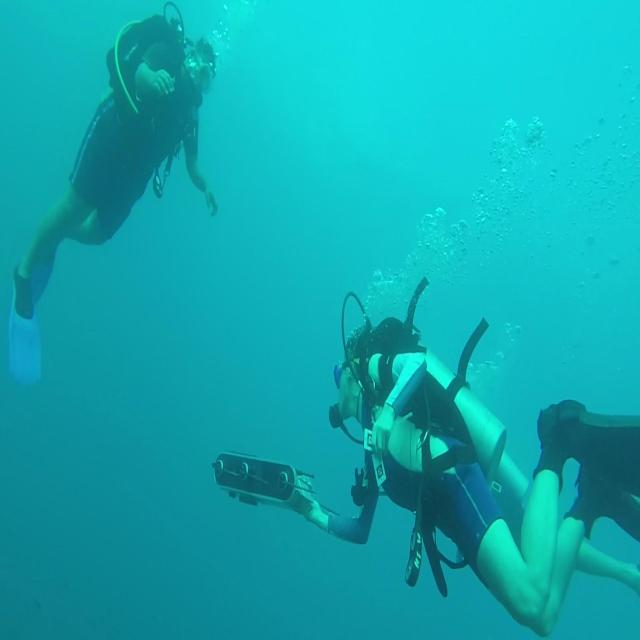human: (212, 277, 639, 636), (8, 5, 218, 383)
